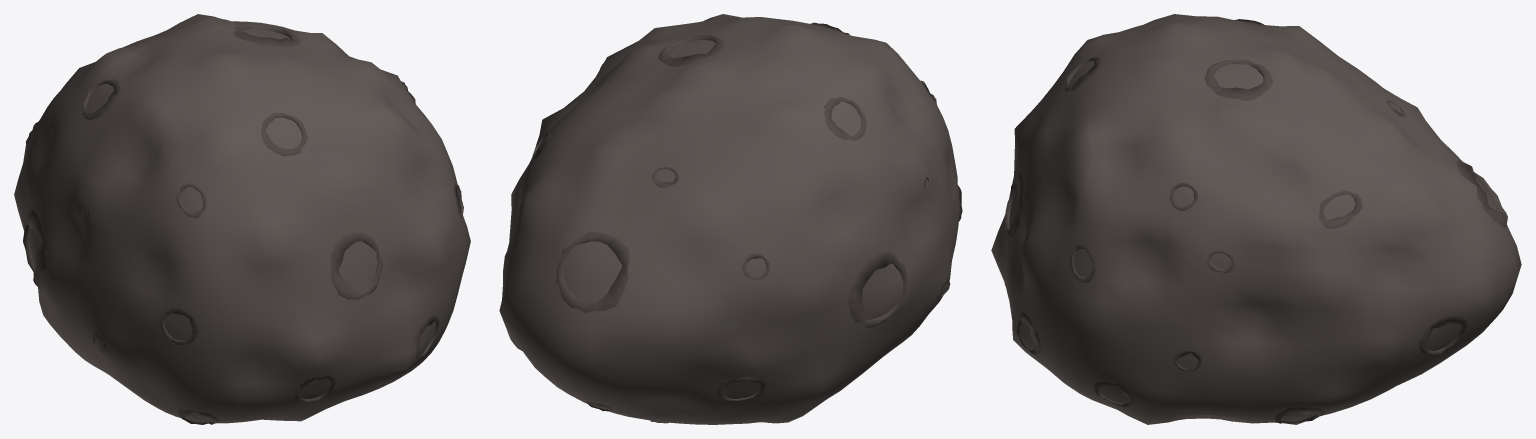
Rendered from 03_Comet_01.fbx.
The picture shows the model from 3 angles, left to right: view 1: azimuth 30°, elevation 25°; view 2: azimuth 150°, elevation 25°; view 3: azimuth 270°, elevation 25°; orthographic projection. The views are drawn at different scales.
Visible parts, largest first — view 1: Comet_geo; view 2: Comet_geo; view 3: Comet_geo.
Boxes of the visible parts, x1,y1,x2,y2 form: Comet_geo: [14, 14, 470, 424]; Comet_geo: [499, 14, 962, 424]; Comet_geo: [991, 14, 1521, 424].
Size of the model in its own units: 180 by 171 by 232.
Materials: 1 (1 with a texture image).
